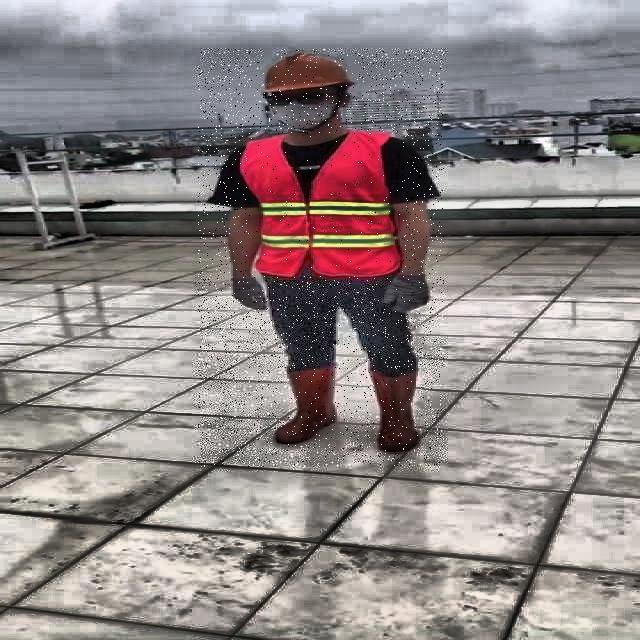safety_helmet: (252, 50, 355, 93)
safety_jacket: (247, 134, 402, 276)
